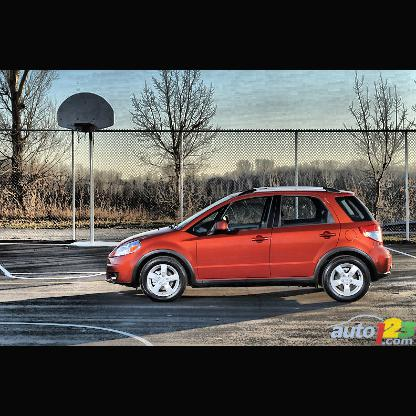Suzuki SX4 Hatchback 2012: (108, 187, 395, 306)
